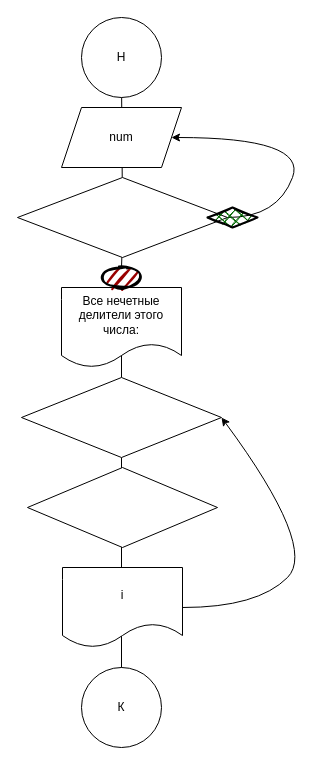
Some shapes in this 313 by 765 pixel diagram are drawn without their labels. Here are the shapes that lost their labels. From the top down, the centre of each, then its label:
(122,217): while (num < 1 || num > 100000)
(121,417): for (int i = 1; i <= 50000; i+=2)
(122,507): if (num%i == 0)
